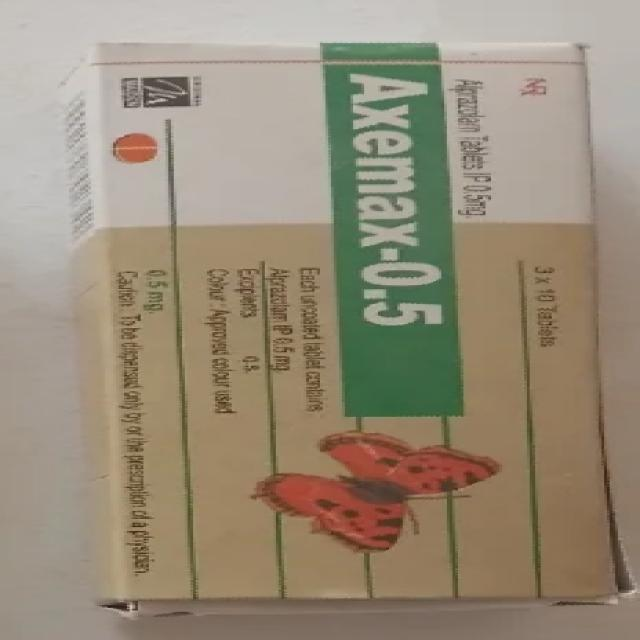drug-name: (346, 69, 447, 330)
